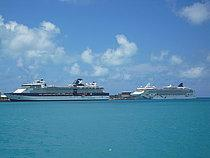Ship: (5, 79, 114, 104), (128, 82, 199, 103)
